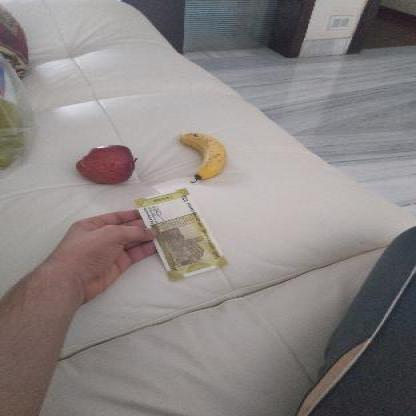New20Back: (137, 187, 228, 277)
